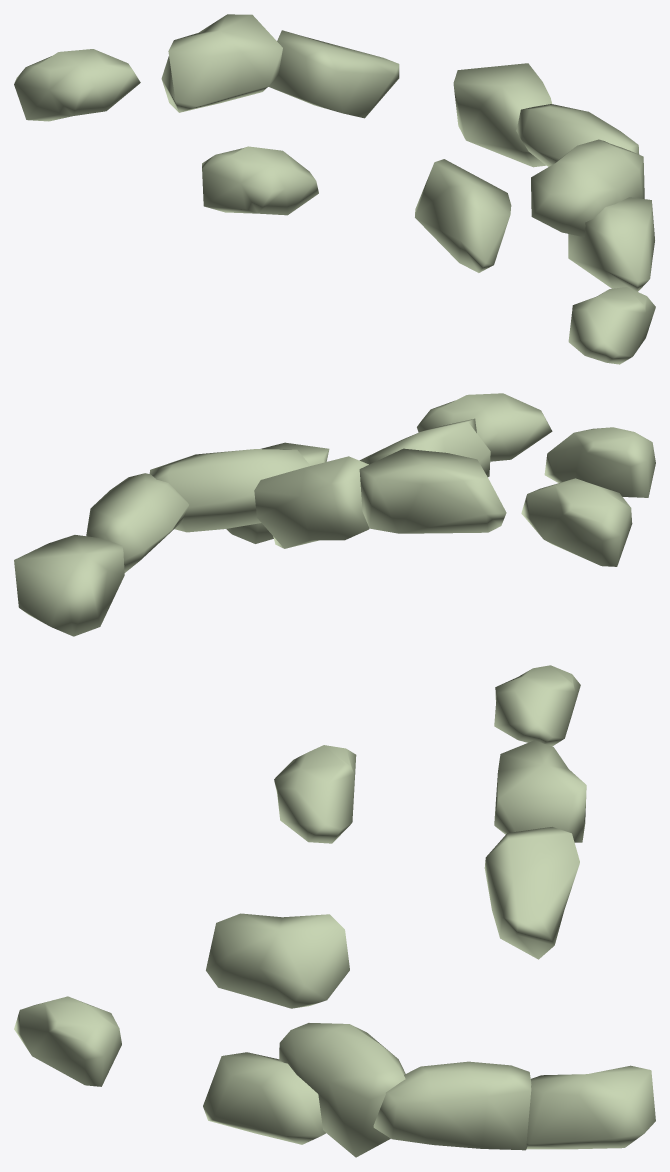
The model's file is Rubble_05B_Lod0.fbx.
3 views of the same model, one above another, from view 1: azimuth 30°, elevation 25°; view 2: azimuth 150°, elevation 25°; view 3: azimuth 270°, elevation 25° (orthographic). The views are drawn at different scales.
Parts seen in each view (by area): view 1: Rubble_05B_Lod0; view 2: Rubble_05B_Lod0; view 3: Rubble_05B_Lod0.
Part boxes in pixels (left/top/right/bottom): Rubble_05B_Lod0: left=14, top=14, right=655, bottom=364; Rubble_05B_Lod0: left=14, top=393, right=655, bottom=636; Rubble_05B_Lod0: left=14, top=665, right=655, bottom=1157.
Bounding box in the file's own units: 139 × 54.26 × 134.
